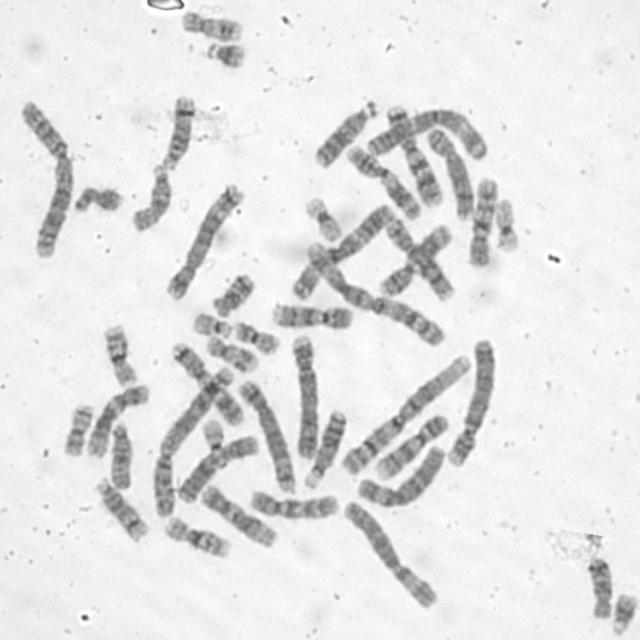A1: (338, 350, 474, 476), (302, 238, 448, 350)
A2: (148, 365, 236, 519), (15, 95, 76, 261)
A3: (288, 200, 396, 302), (362, 105, 492, 162)
B4: (443, 335, 499, 469), (286, 331, 322, 462)
B5: (161, 180, 246, 302), (235, 375, 298, 495)
C10: (242, 486, 342, 523), (464, 172, 500, 270)
C11: (377, 220, 456, 302), (343, 142, 422, 223)
C12: (198, 481, 280, 549), (84, 378, 151, 459)
C6: (340, 496, 440, 611), (354, 440, 447, 510)
C7: (168, 338, 244, 429), (383, 99, 444, 208)
C8: (384, 214, 456, 303), (423, 124, 476, 222)
C9: (371, 410, 451, 480), (268, 299, 356, 332)
D13: (310, 96, 380, 170), (300, 406, 349, 491)
D14: (92, 474, 150, 544), (157, 91, 196, 173)
D15: (128, 162, 174, 234), (107, 418, 135, 491)
E16: (162, 512, 234, 561), (100, 320, 139, 388)
E17: (202, 332, 259, 374), (178, 8, 244, 43)
E18: (208, 268, 256, 318), (584, 552, 614, 621)
F19: (300, 192, 343, 244), (491, 195, 522, 255)
F20: (58, 400, 95, 458), (230, 317, 281, 356)
G21: (202, 37, 248, 70), (608, 589, 638, 636)
G22: (198, 414, 228, 464), (190, 310, 233, 340)
X: (170, 430, 261, 505)
Y: (70, 186, 127, 215)
